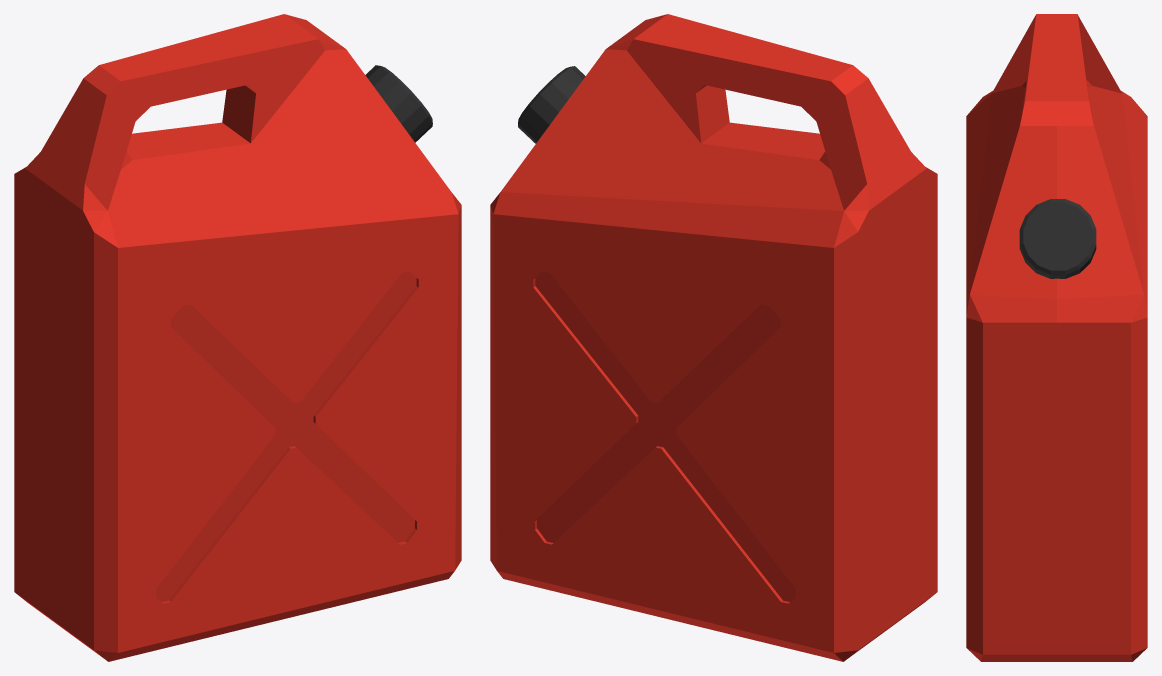
Rendered from Fuel Can.glb.
3 renders of one model, left to right at view 1: azimuth 30°, elevation 25°; view 2: azimuth 150°, elevation 25°; view 3: azimuth 270°, elevation 25°, orthographic. The views are drawn at different scales.
Parts seen in each view (by area): view 1: Fuel Can; view 2: Fuel Can; view 3: Fuel Can.
Boxes of the visible parts, x1,y1,x2,y2 form: Fuel Can: (14,14,461,661); Fuel Can: (490,14,937,661); Fuel Can: (966,14,1147,661).
Bounding box in the file's own units: 1.2 × 1.7 × 0.5458.
Materials: 1 (1 with a texture image).
